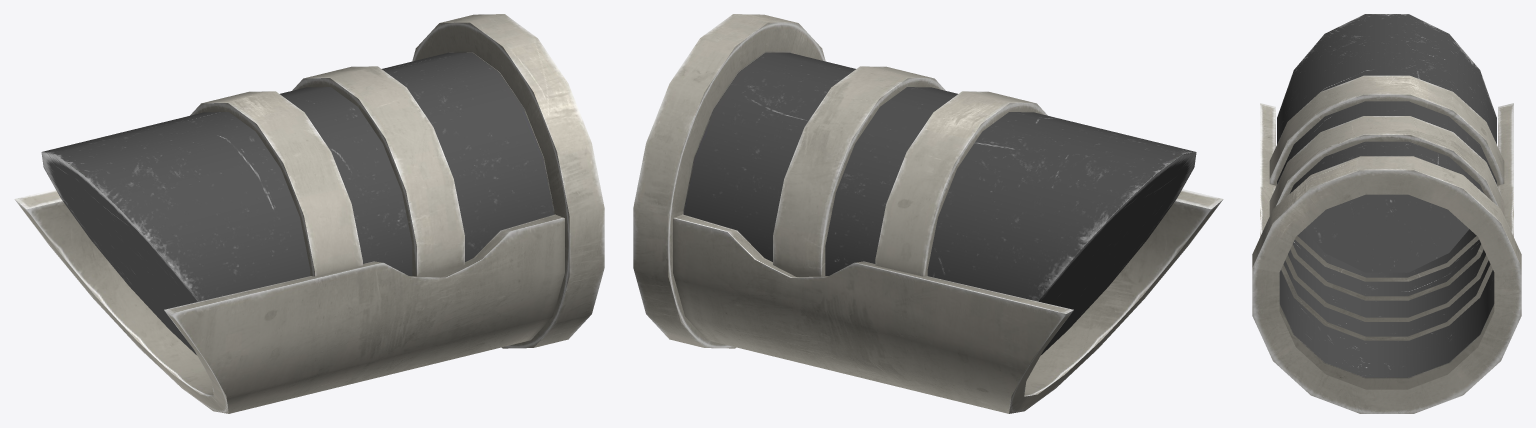
The model's file is pommel_2_c_d.glb.
3 views of the same model, side by side, from view 1: azimuth 30°, elevation 25°; view 2: azimuth 150°, elevation 25°; view 3: azimuth 270°, elevation 25° (orthographic). The views are drawn at different scales.
Parts seen in each view (by area): view 1: pommel_2_c_d_lod0; view 2: pommel_2_c_d_lod0; view 3: pommel_2_c_d_lod0.
Part boxes in pixels (bbox=[...]): pommel_2_c_d_lod0: bbox=[14, 14, 604, 413]; pommel_2_c_d_lod0: bbox=[633, 14, 1223, 413]; pommel_2_c_d_lod0: bbox=[1252, 14, 1521, 413].
Size of what is drawn, in the model's own units: 0.0484 by 0.0308 by 0.0308.
Materials: 1 (1 with a texture image).
